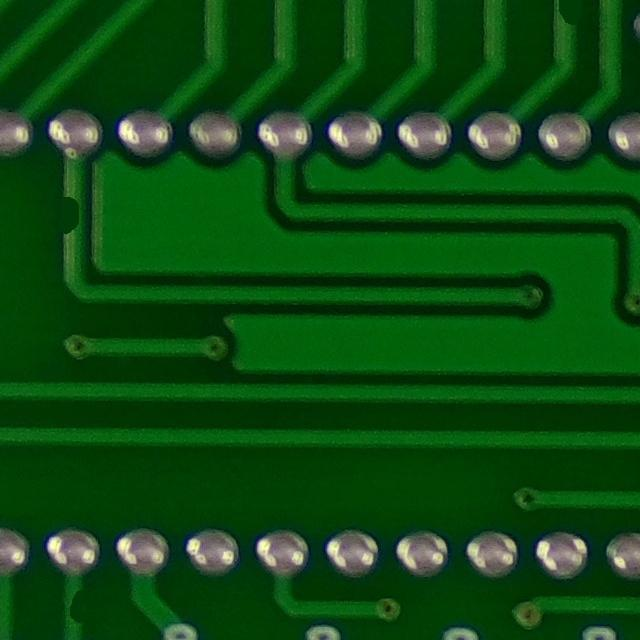mouse_bite: (47, 177, 91, 244), (53, 578, 92, 628), (542, 0, 594, 36)
